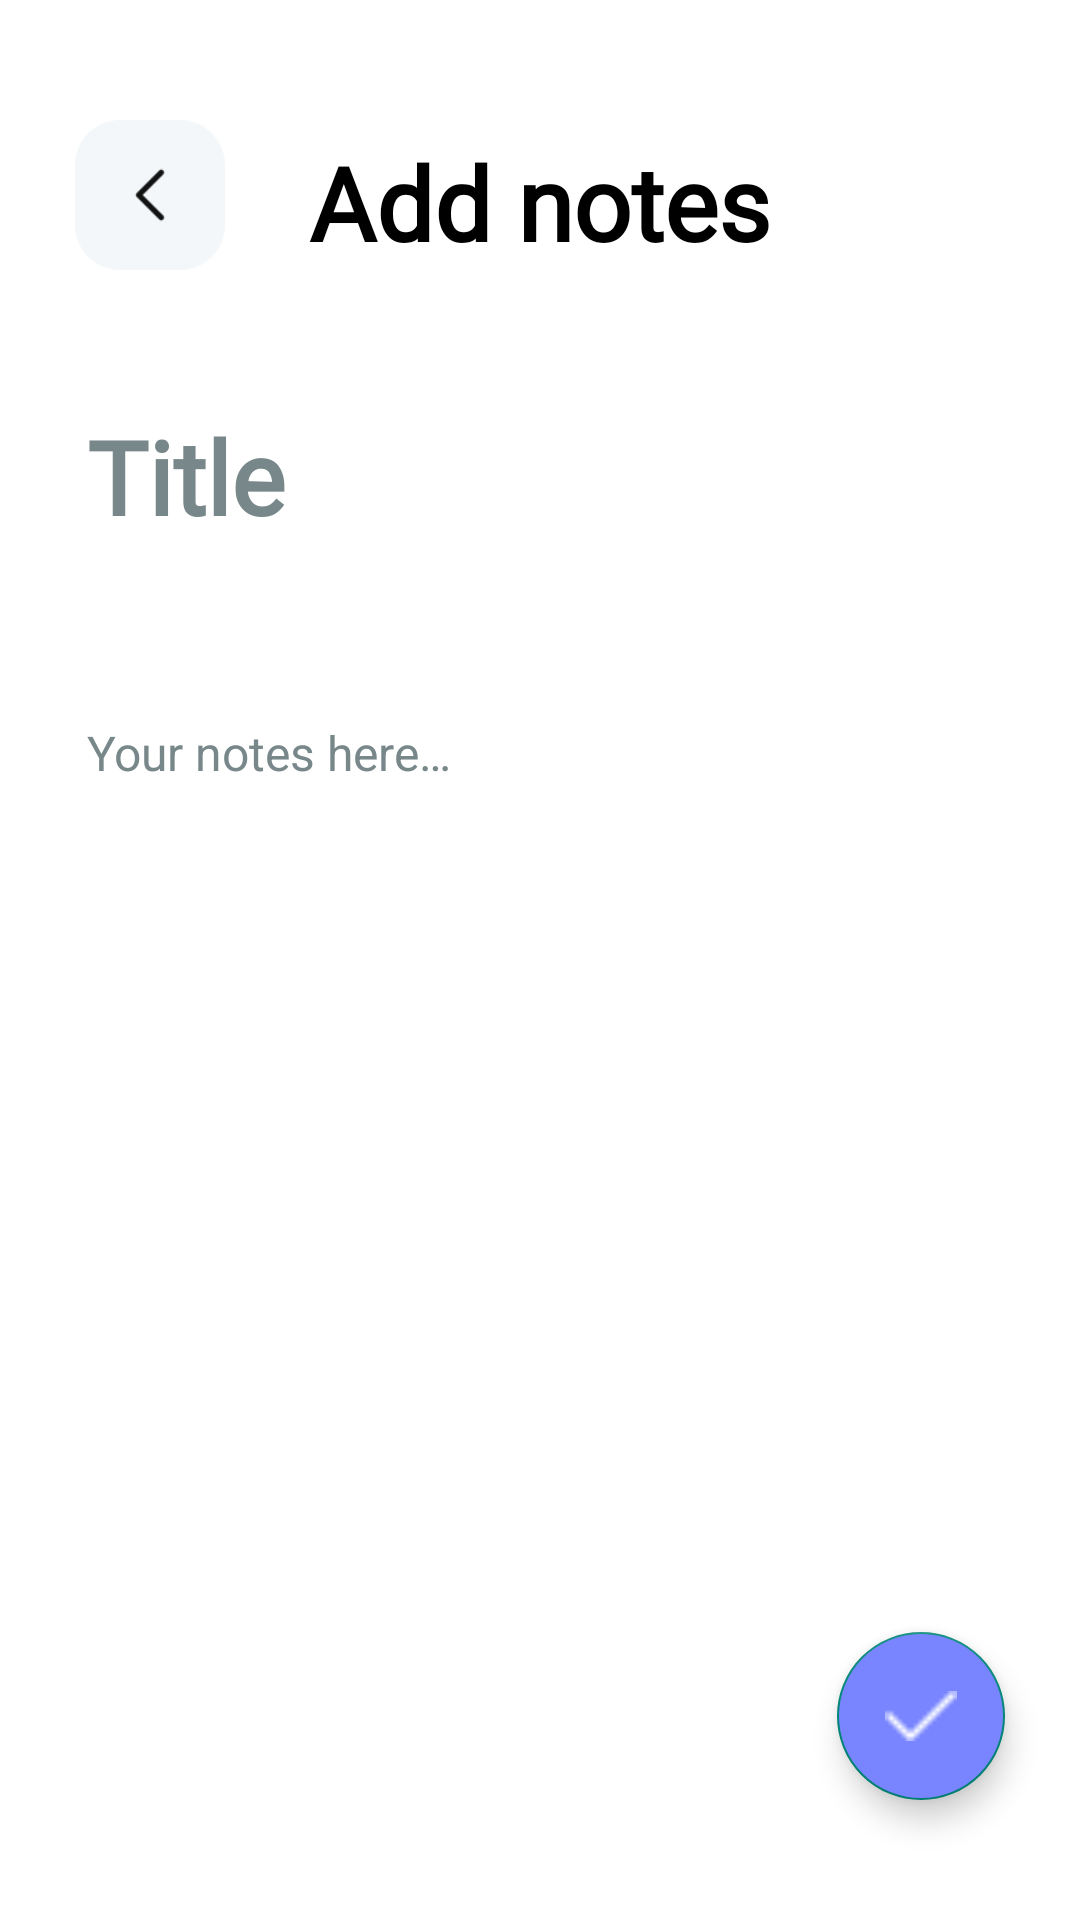

Locate icon controls on the screen. Image size 1080×1920, boxes as (x1, y1, x2, y2).
back: (75, 120, 225, 270)
save: (837, 1632, 1005, 1800)
